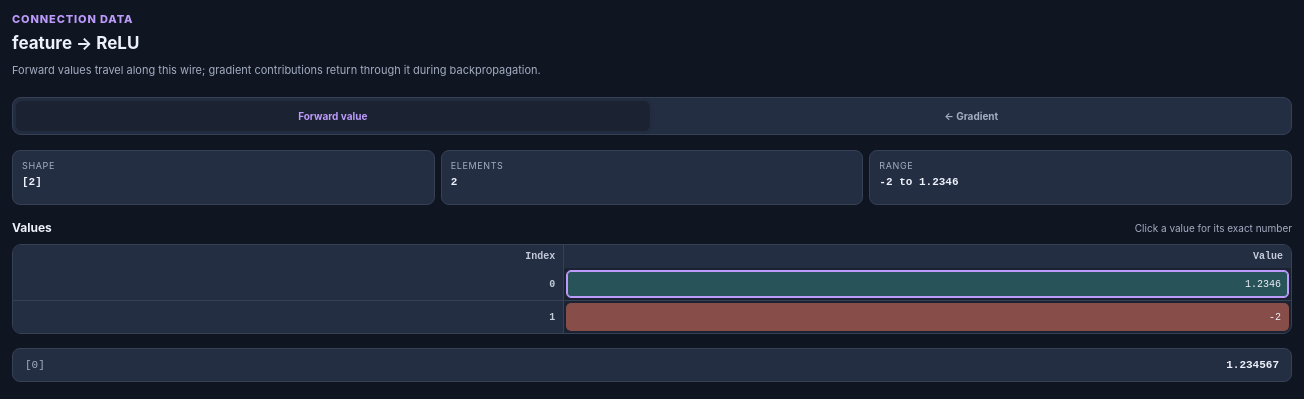
Test: DataInspector › shows the selected wire’s values, exact cell, and backward contribution
Expected: the heading "feature → ReLU" is shown, [12,33,139,53]
Click the button named "Index 1: -2" at (1275, 317), box [566,303,1289,331]
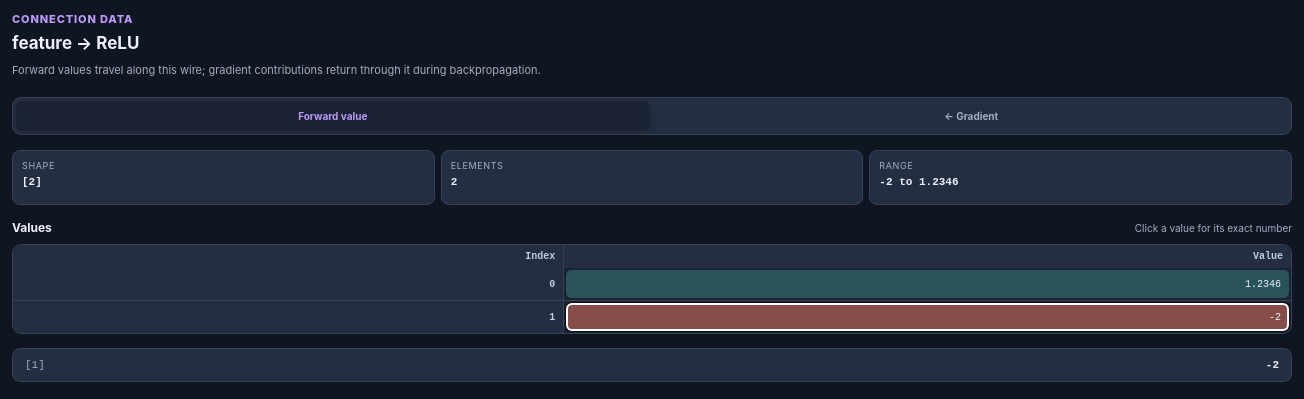
Expected: the text "-2" is shown, [1266,359,1279,371]
Click the tab "← Gradient" at (971, 116), box [654,101,1288,131]
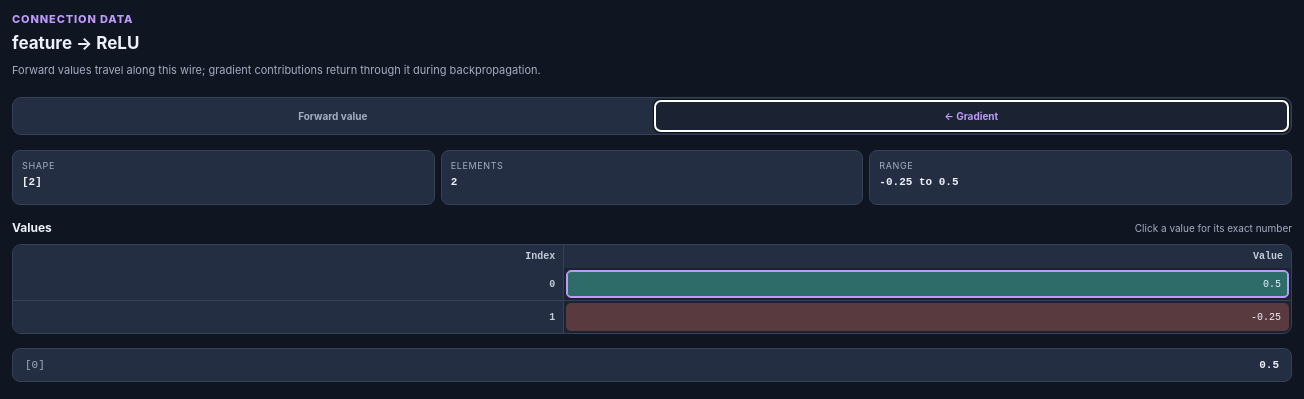
Expected: the button named "Index 1: -0.25" is shown, [566,303,1289,331]
